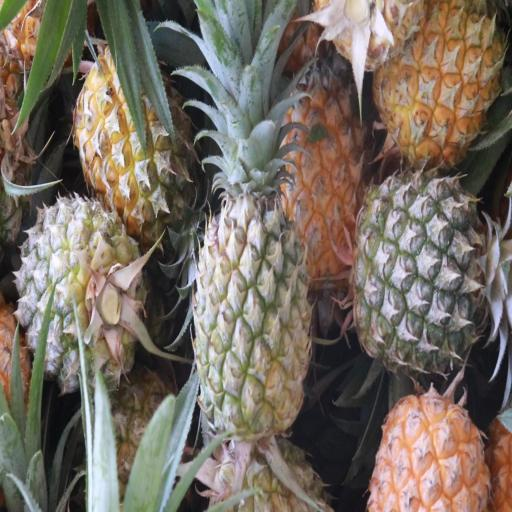------------------------------: (75, 30, 193, 229), (20, 195, 142, 386)
Pineapple - v8 v1: (376, 0, 501, 161), (280, 62, 366, 278), (366, 384, 487, 512)
